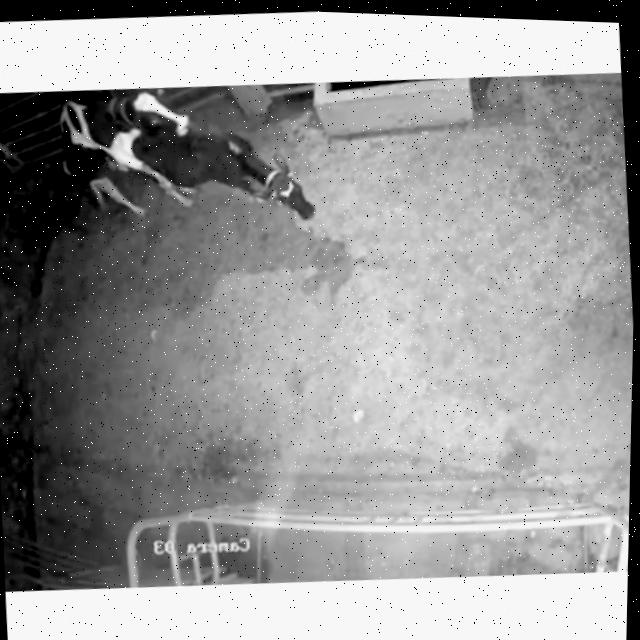ride: (26, 80, 203, 238)
